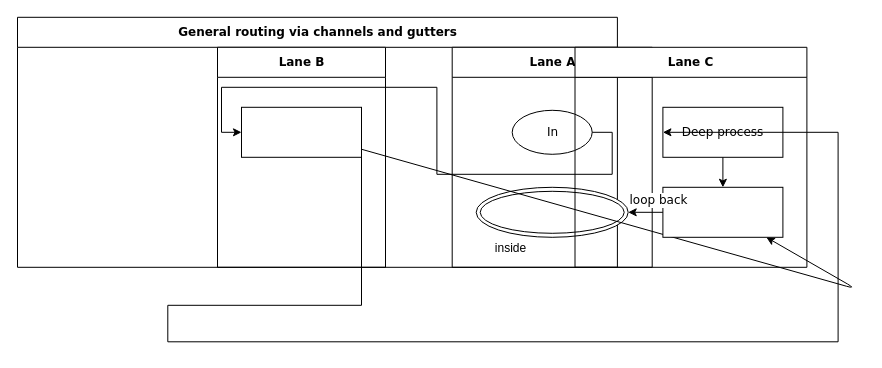
This 882x368 diagram has some shape labels left out. Each missing label, with the box of its shape:
Dispatch: (240, 106, 362, 157)
Get result: (475, 186, 628, 237)
Save result: (662, 186, 783, 237)
